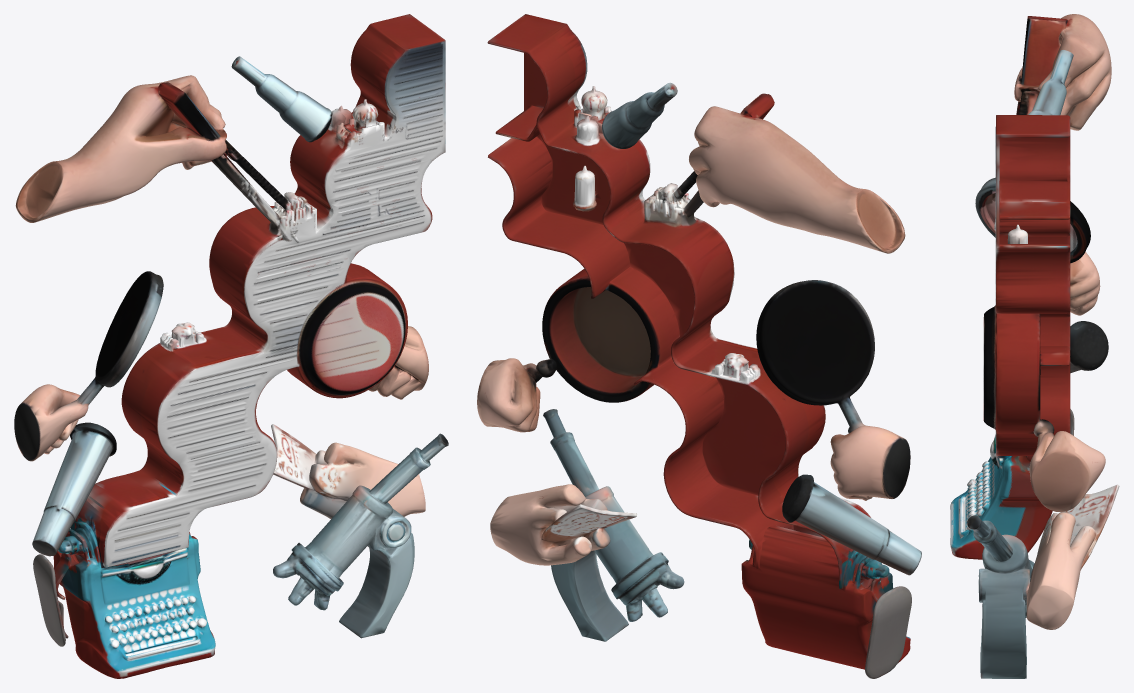
File: 传播价值3.glb
3 views of the same model, side by side, from view 1: azimuth 30°, elevation 25°; view 2: azimuth 150°, elevation 25°; view 3: azimuth 270°, elevation 25° (orthographic). The views are drawn at different scales.
Visible parts, largest first — view 1: Object_4; view 2: Object_4; view 3: Object_4.
Part boxes in pixels (<box>): Object_4: <box>14,14,448,678</box>; Object_4: <box>477,14,921,678</box>; Object_4: <box>950,14,1119,678</box>.
Size of the model in its own units: 0.7024 by 0.9653 by 0.2558.
Materials: 1 (1 with a texture image).
